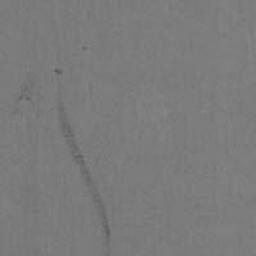Inclusion: (58, 101, 93, 186), (91, 188, 111, 246), (15, 94, 31, 103)
